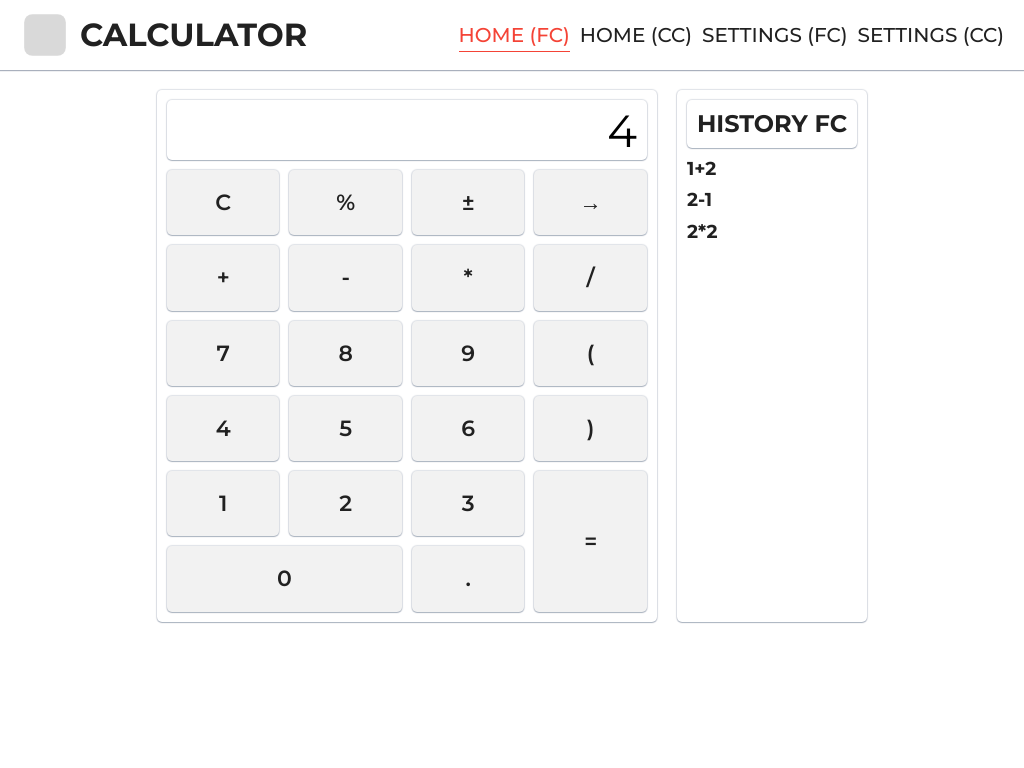
Test: Calculator App › Should check the work of division
Click the button "C". click: point(224, 203)
box: [167,170,280,235]
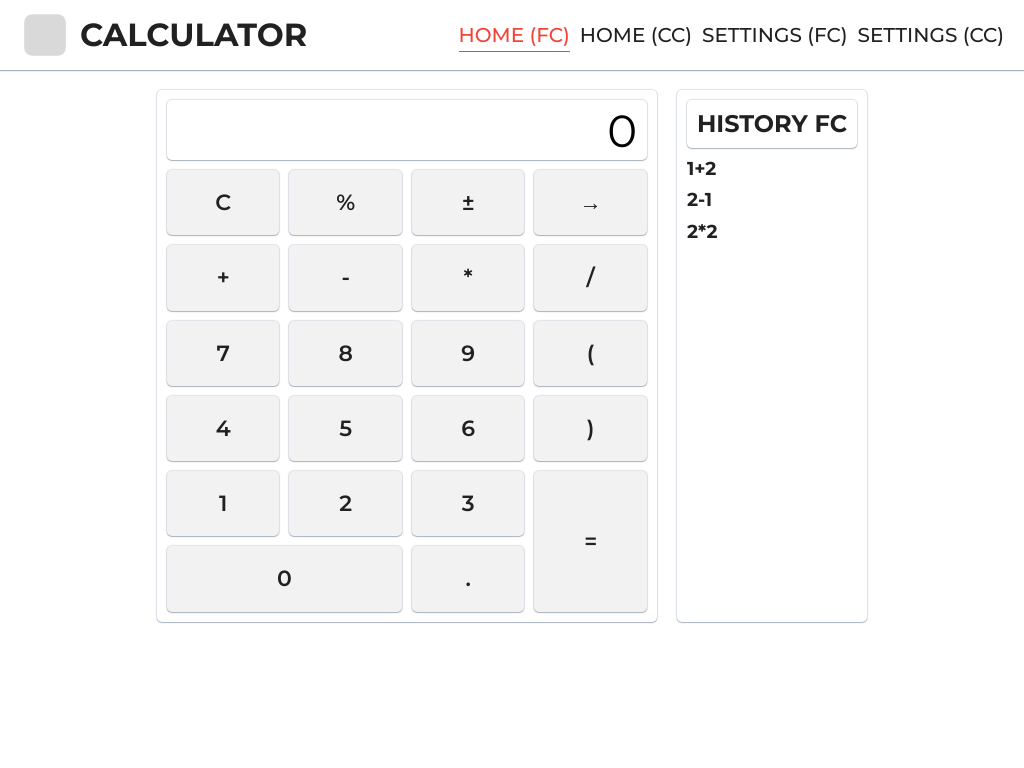
Result: the field holds "0" at [167,100,647,160]
Click the button "9". click: point(469, 354)
box: [412,321,525,386]
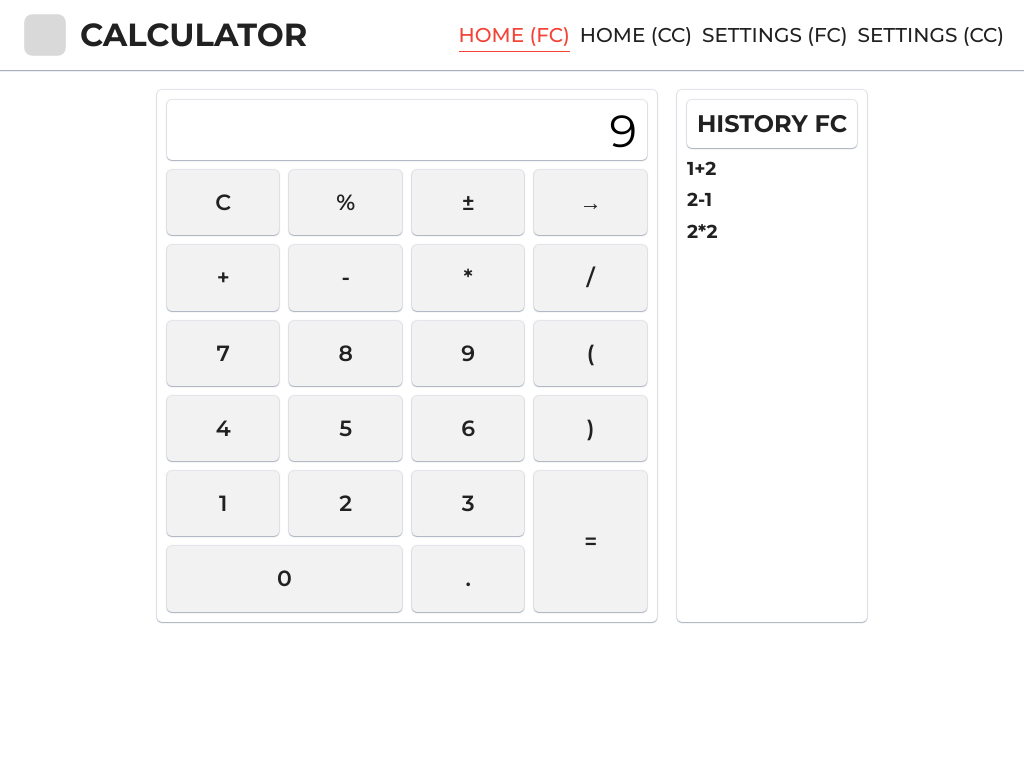
Click the button "/". click: point(591, 278)
box: [534,245,647,310]
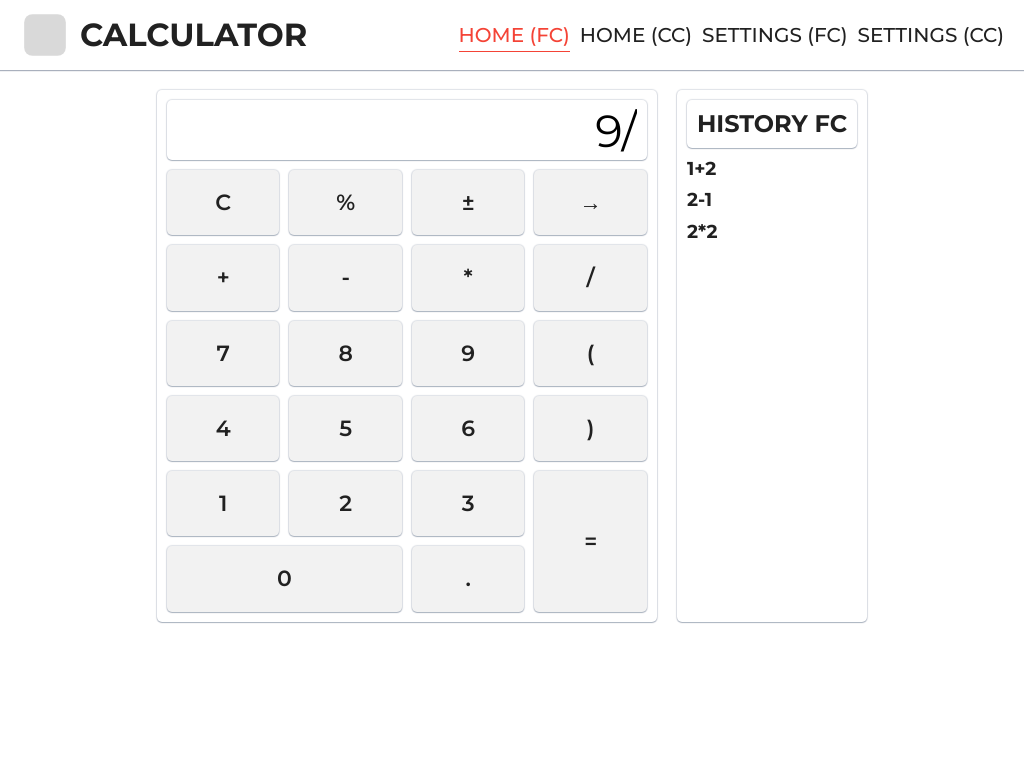
Click the button "3". click: point(469, 504)
box: [412,471,525,536]
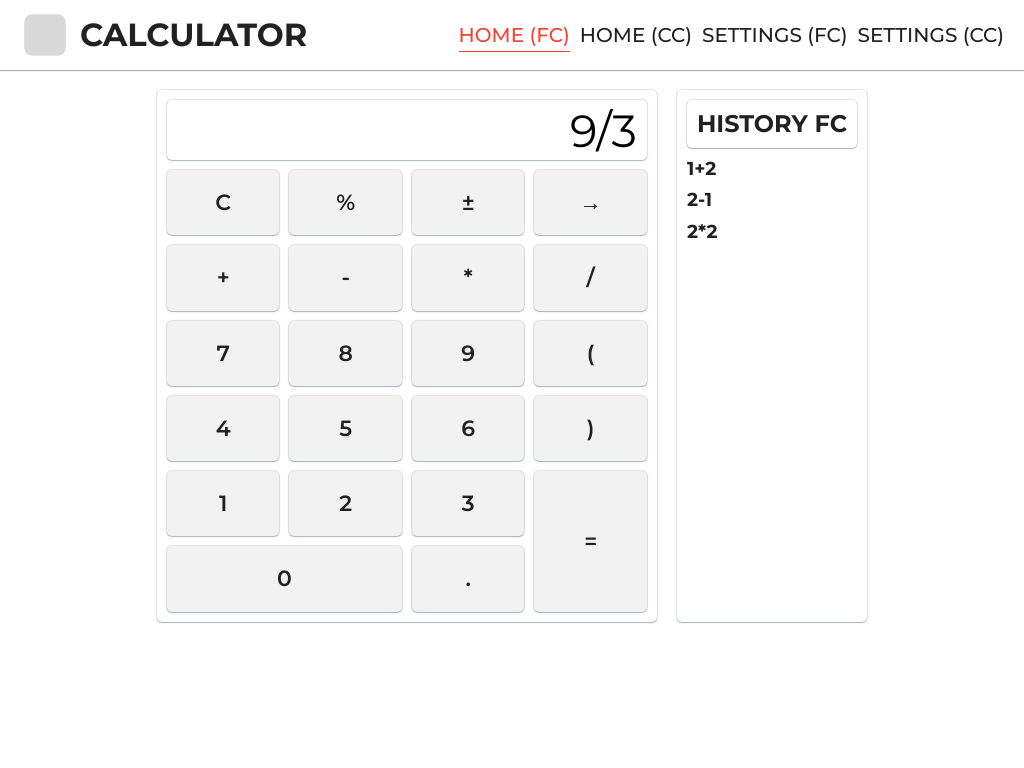
Click the button "=". click: point(591, 542)
box: [534,471,647,612]
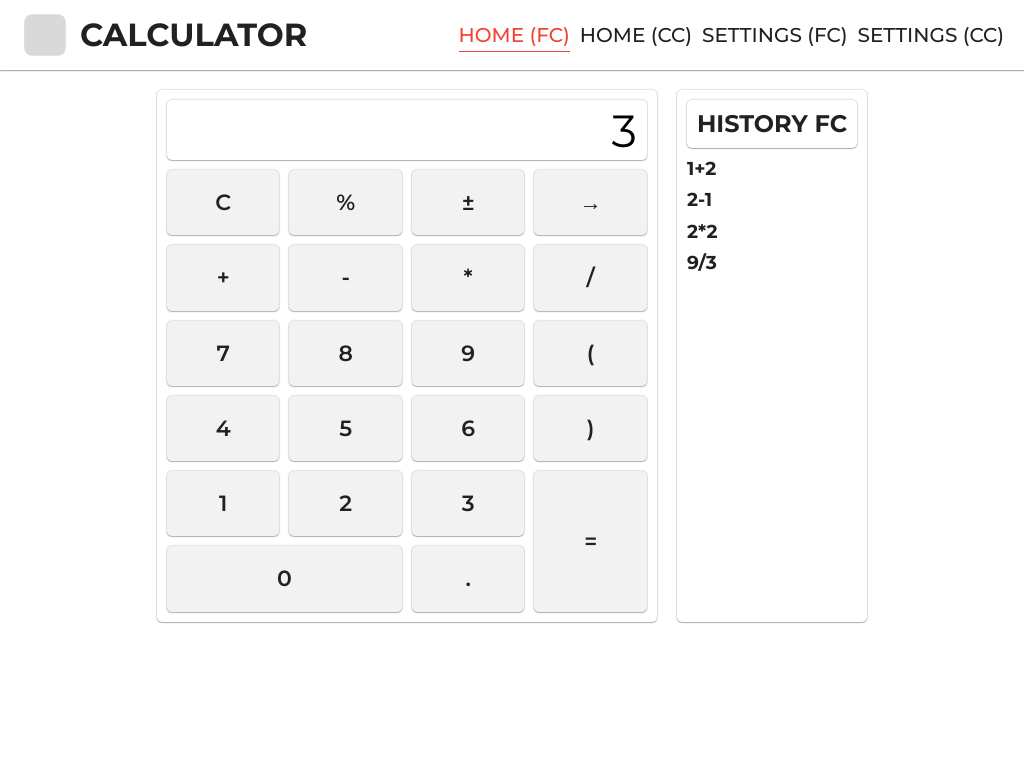
Result: the field holds "3" at [167,100,647,160]
